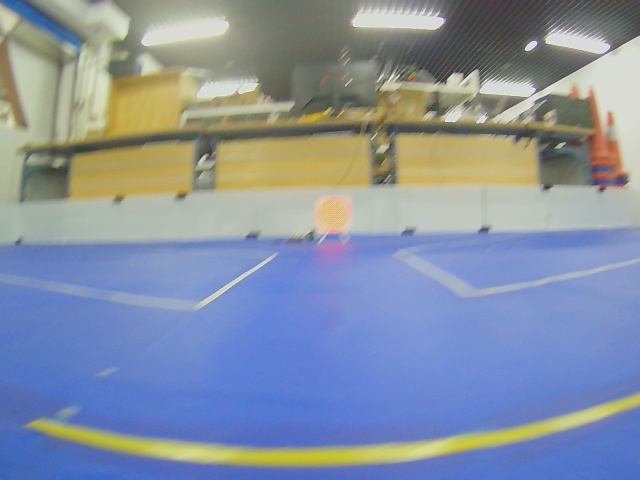red: (315, 195, 352, 234)
